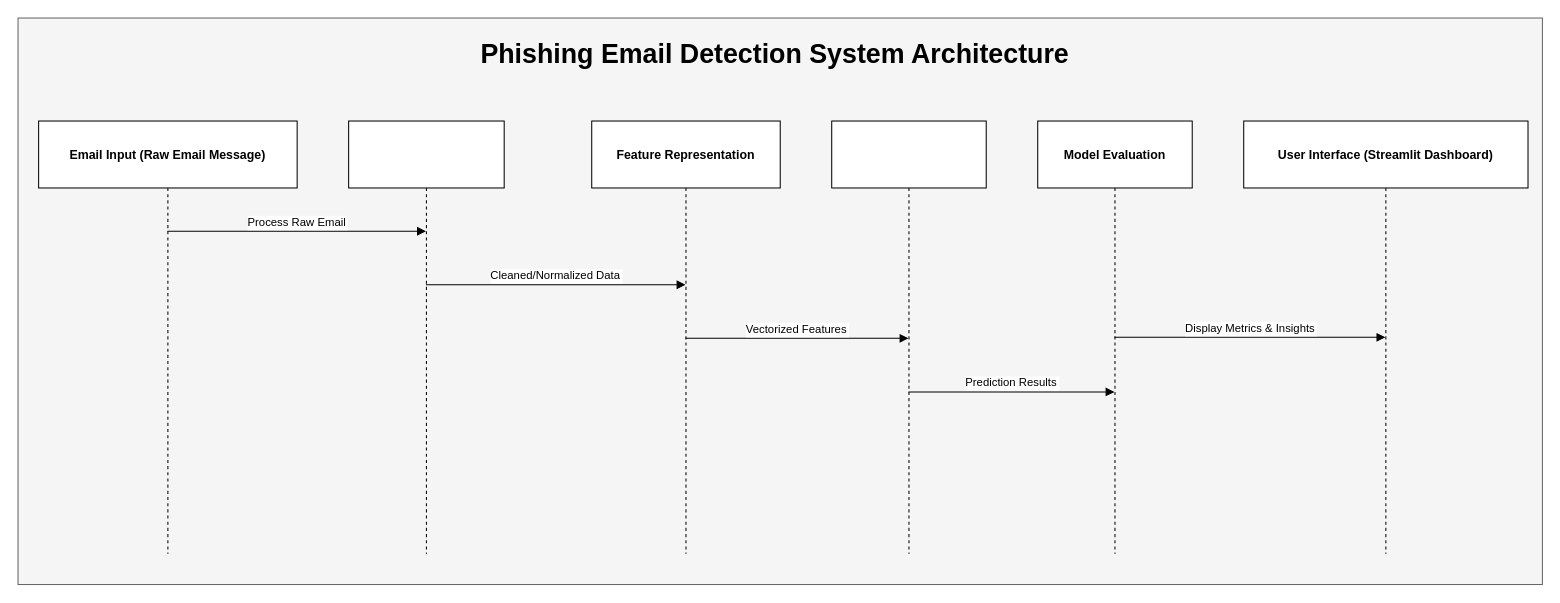
Some shapes in this 1560 by 603 pixel diagram are drawn without their labels. The box of each missing label's shape, as (x1, y1, x2, y2) in pixels:
Detection Models: (831, 120, 986, 554)
Text Preprocessing: (348, 120, 504, 554)
